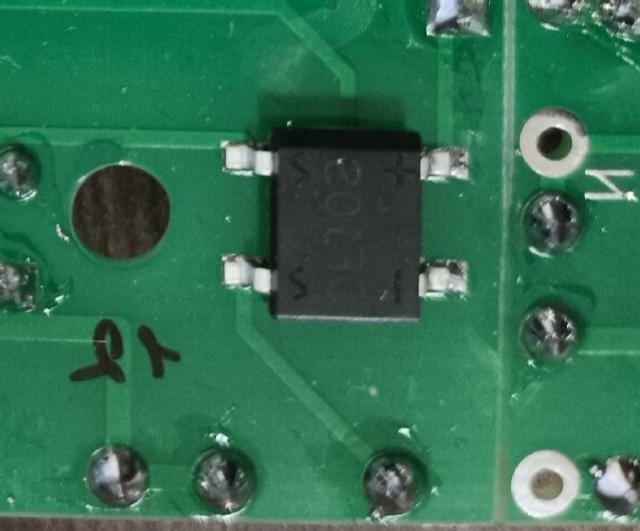ic: (211, 123, 473, 328)
